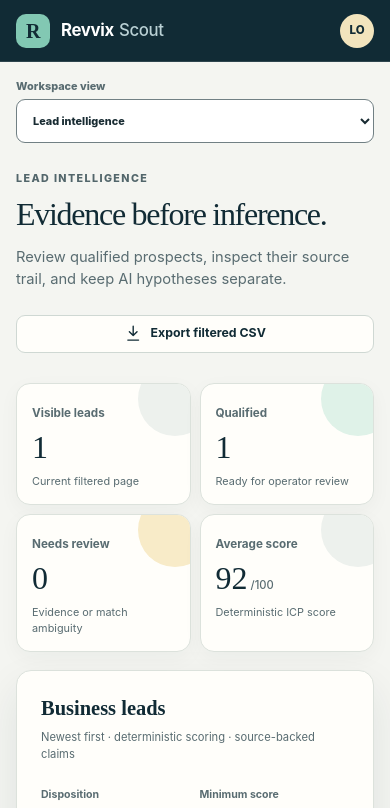
Test: operator dashboard › exposes review navigation through the mobile workspace control
Select "Review queues" in the dropdown named "Mobile workspace view" at (195, 121), box x1=16 y1=99 x2=374 y2=143
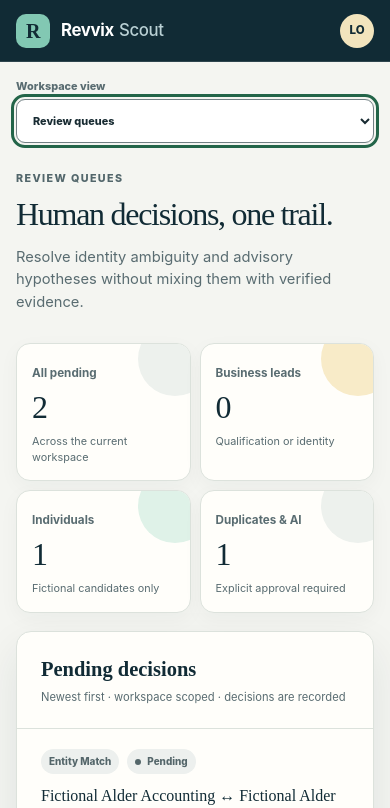
Check: the heading "Human decisions, one trail." is shown, box x1=16 y1=190 x2=374 y2=238
